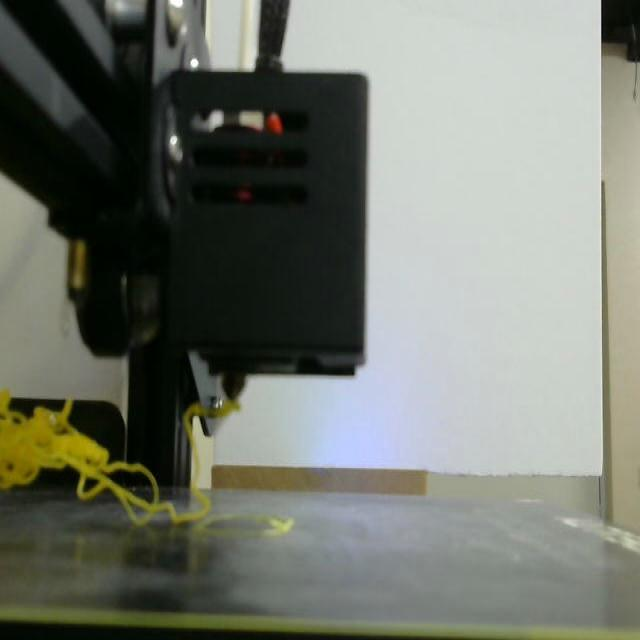spaghetti: (0, 392, 211, 526)
